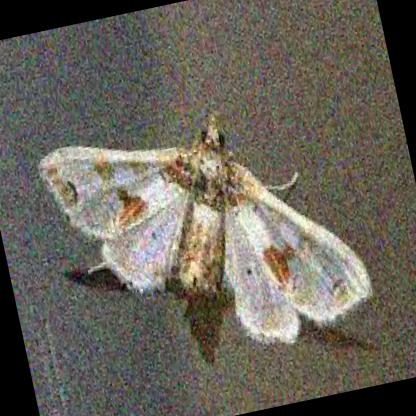leucinodes: (40, 116, 371, 350)
